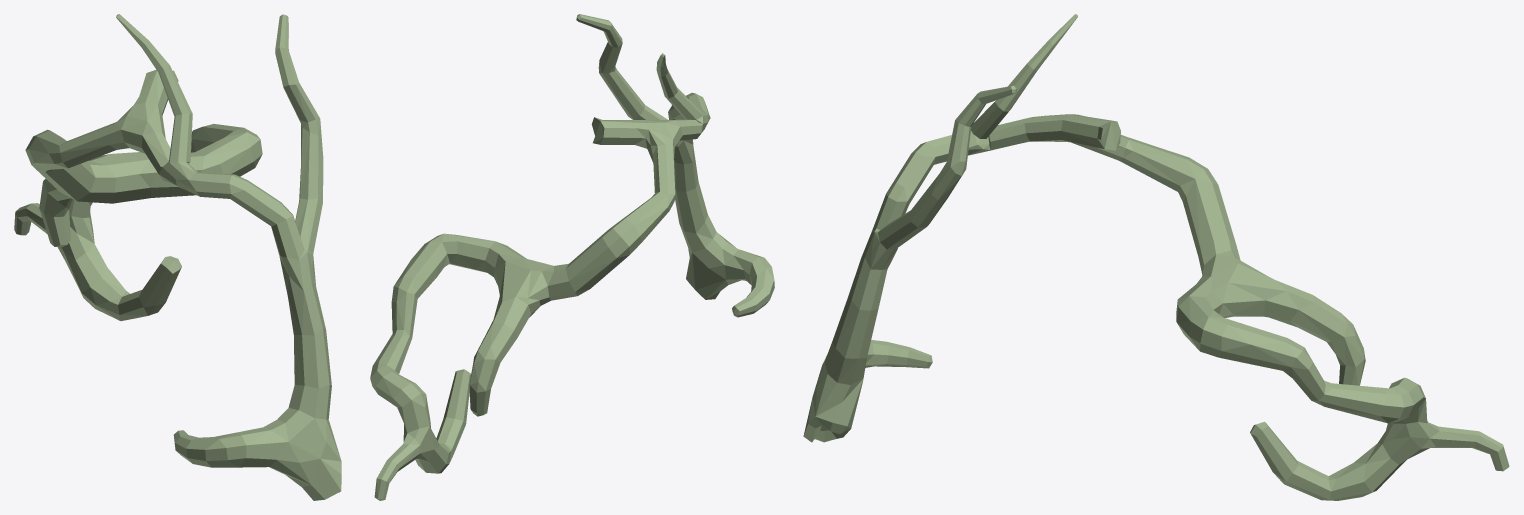
File: EA_Swamp_Liana_01c.glb
3 renders of one model, left to right at view 1: azimuth 30°, elevation 25°; view 2: azimuth 150°, elevation 25°; view 3: azimuth 270°, elevation 25°, orthographic. The views are drawn at different scales.
Parts seen in each view (by area): view 1: EA_Swamp_Liana_01c; view 2: EA_Swamp_Liana_01c; view 3: EA_Swamp_Liana_01c.
Boxes of the visible parts, x1,y1,x2,y2 form: EA_Swamp_Liana_01c: [14, 14, 341, 500]; EA_Swamp_Liana_01c: [370, 14, 774, 500]; EA_Swamp_Liana_01c: [803, 14, 1509, 500].
Bounding box in the file's own units: 1.22 × 2 × 3.04.
Materials: 1 (1 with a texture image).
